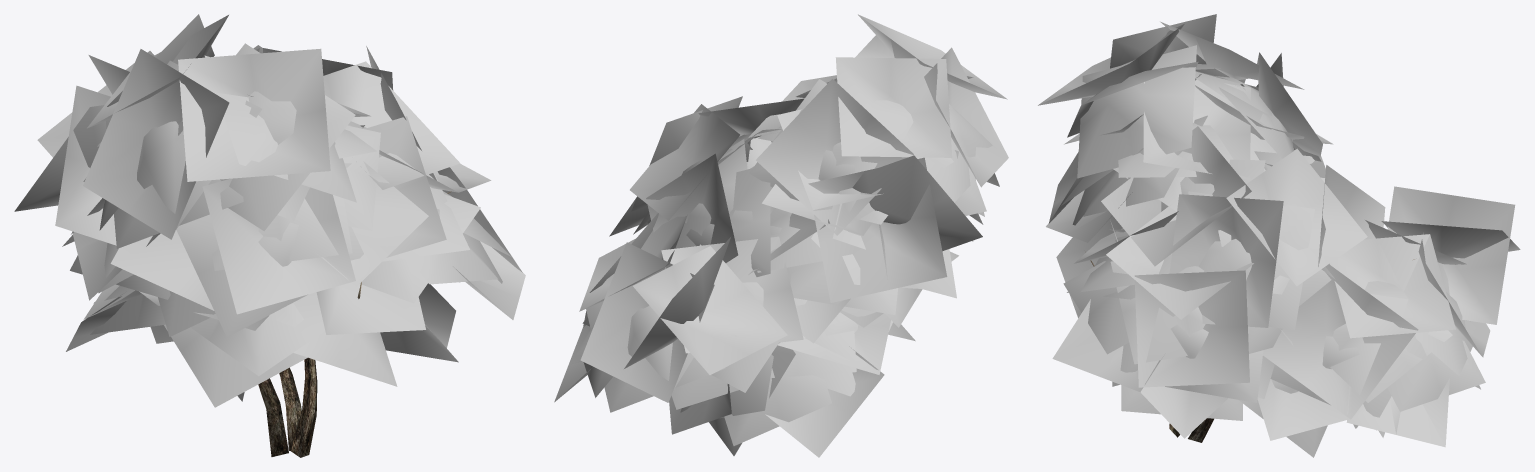
The model's file is Bush 3.FBX.
The picture shows the model from 3 angles, left to right: view 1: azimuth 30°, elevation 25°; view 2: azimuth 150°, elevation 25°; view 3: azimuth 270°, elevation 25°; orthographic projection. The views are drawn at different scales.
Visible parts, largest first — view 1: Bush 03; view 2: Bush 03; view 3: Bush 03.
Boxes of the visible parts, x1,y1,x2,y2 form: Bush 03: [14, 14, 525, 457]; Bush 03: [554, 14, 1008, 457]; Bush 03: [1038, 14, 1520, 457].
Size of the model in its own units: 33.03 by 32.08 by 37.69.
